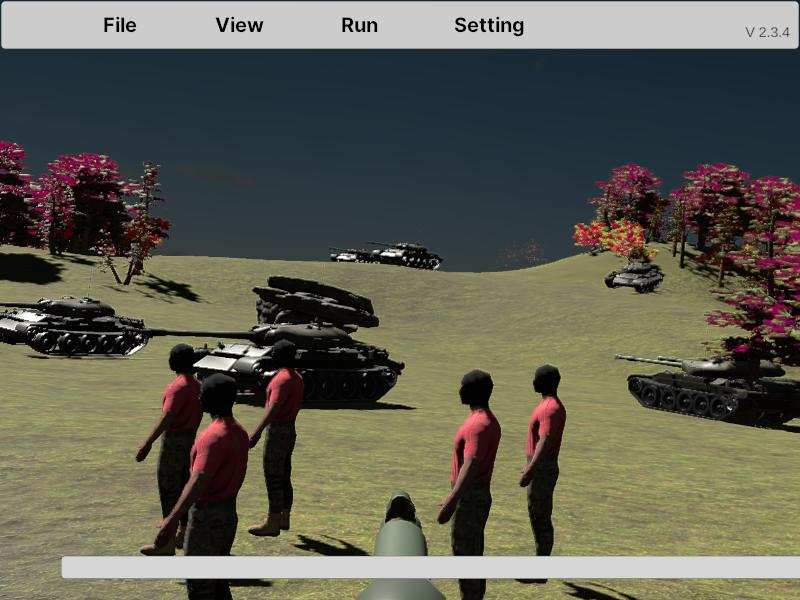Human: (158, 371, 251, 598), (136, 341, 206, 558), (438, 367, 501, 600), (247, 335, 303, 538), (518, 361, 567, 583)
Tank: (118, 320, 405, 407), (613, 351, 800, 429), (0, 293, 148, 358), (366, 242, 443, 271), (604, 260, 665, 293), (605, 260, 664, 292)
